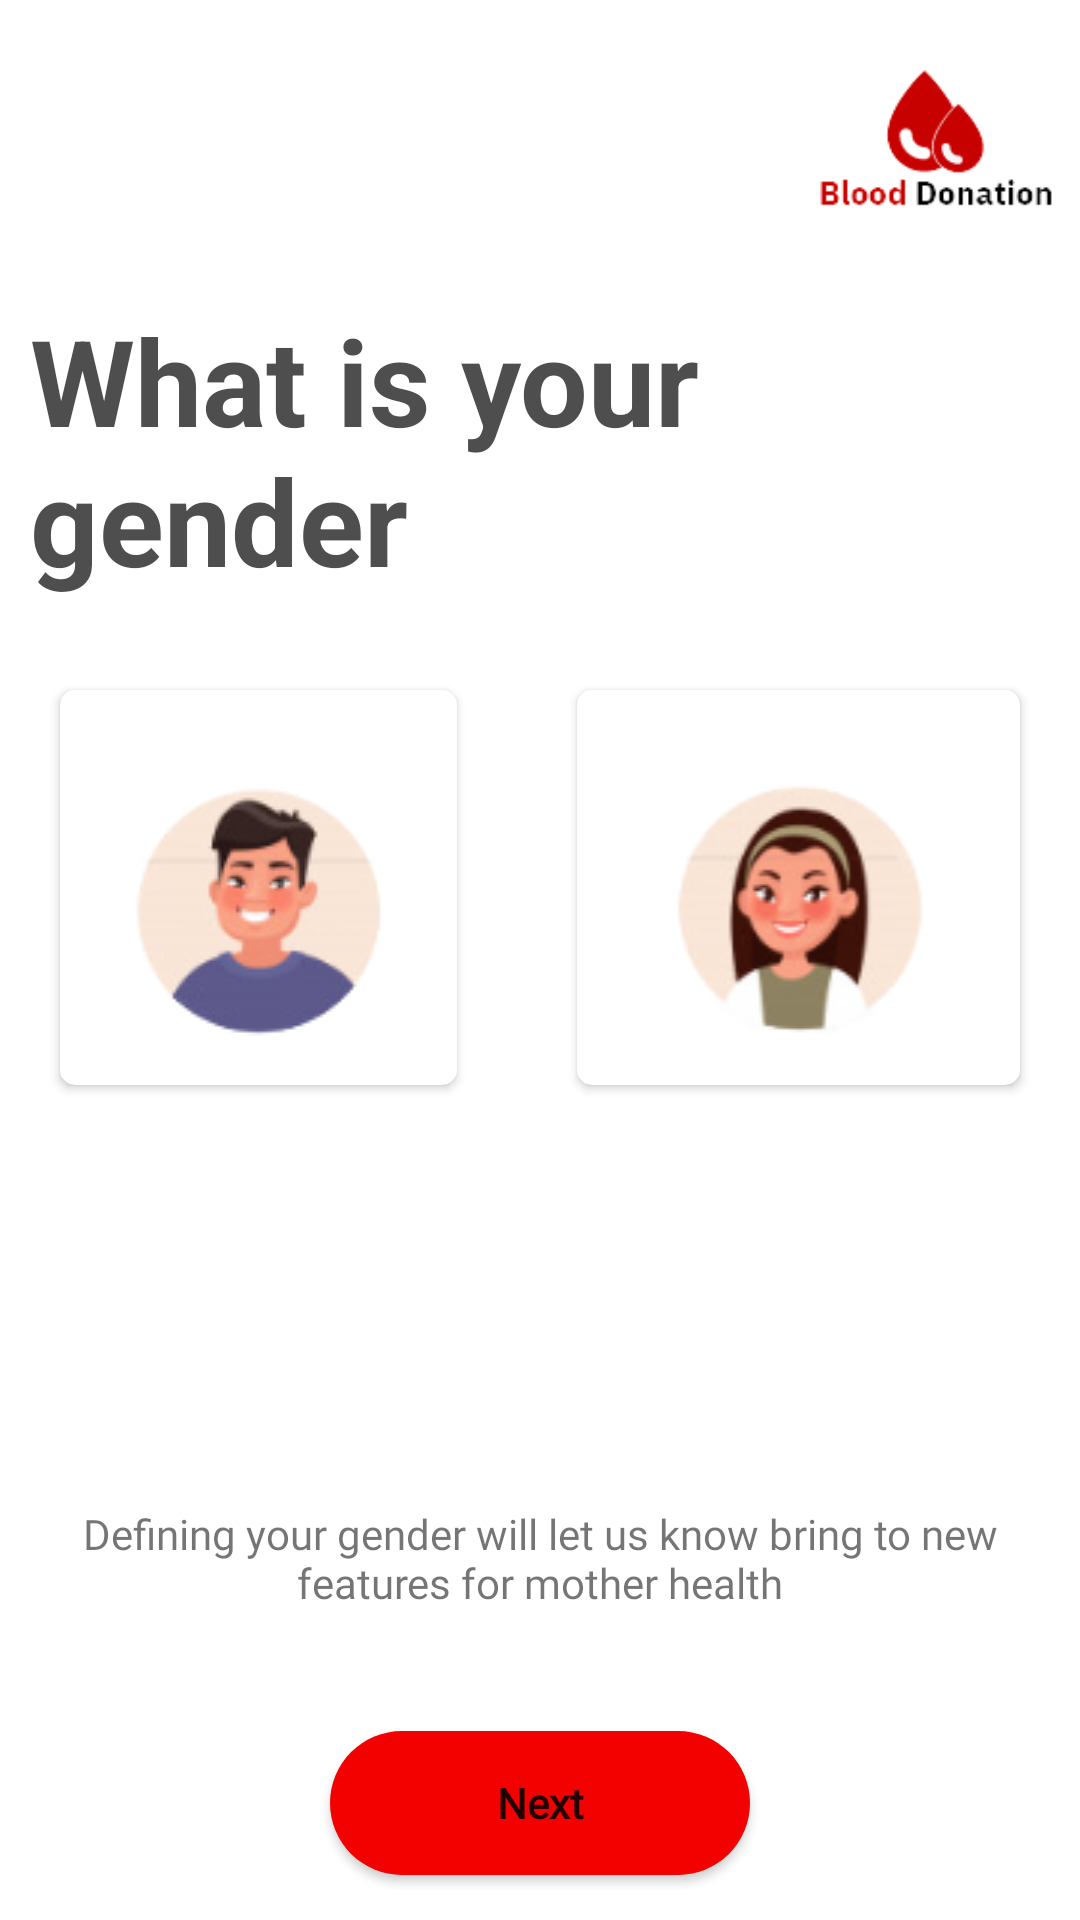

Icon click points for this 1080px×1920px phone screenshot, format point (x, y):
female: point (800, 909)
male: point (259, 912)
